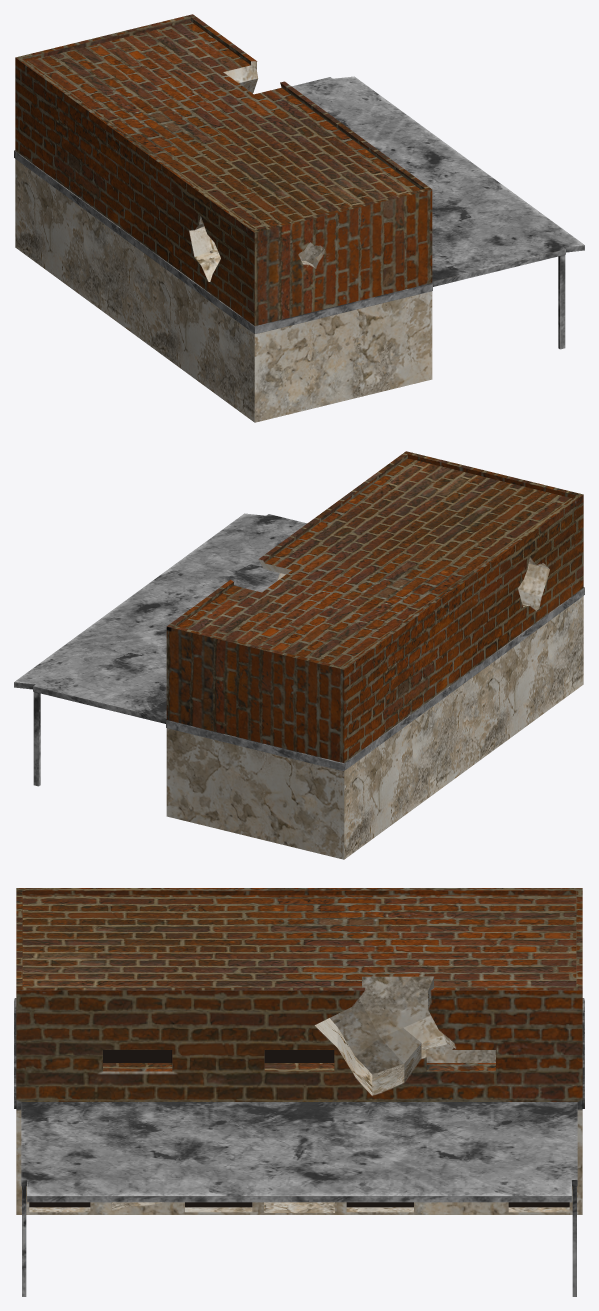
Rendered from destroyed_building_5 (1).glb.
3 renders of one model, top to bottom at view 1: azimuth 30°, elevation 25°; view 2: azimuth 150°, elevation 25°; view 3: azimuth 270°, elevation 25°, orthographic. The views are drawn at different scales.
Visible parts, largest first — view 1: Builidng5; view 2: Builidng5; view 3: Builidng5.
Part boxes in pixels (bbox=[...]): Builidng5: bbox=[14, 14, 584, 422]; Builidng5: bbox=[14, 451, 584, 859]; Builidng5: bbox=[14, 888, 584, 1296].
Bounding box in the file's own units: 41.11 × 22.64 × 51.27.
Materials: 1 (1 with a texture image).
